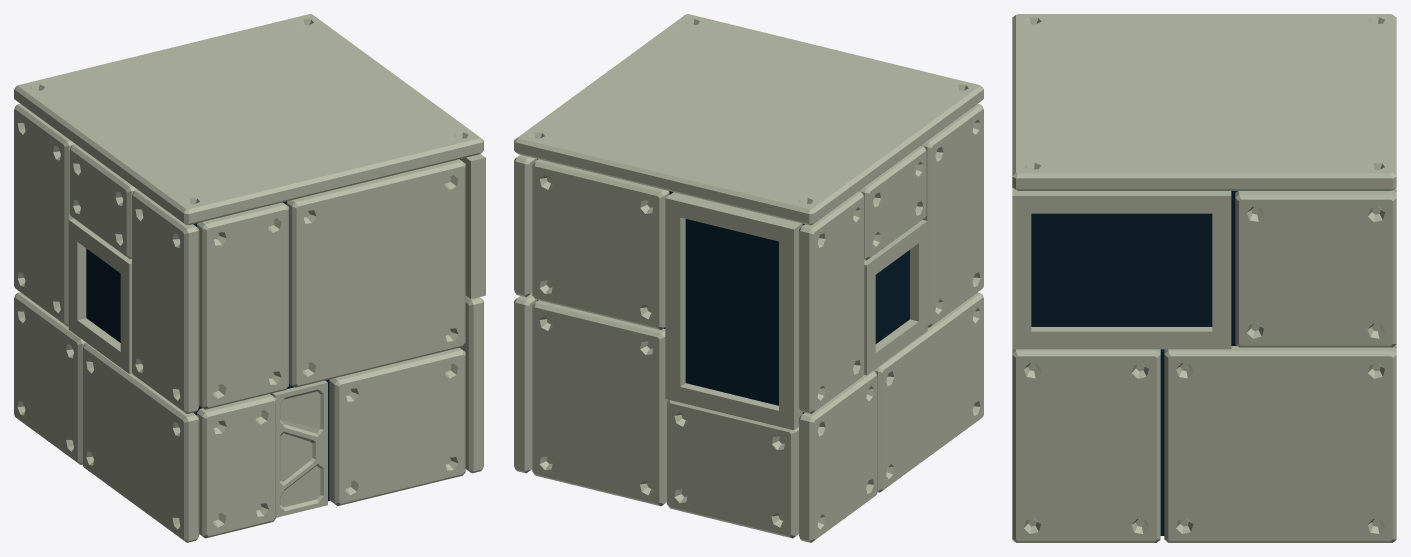
File: House 5 (no grass).fbx
3 views of the same model, side by side, from view 1: azimuth 30°, elevation 25°; view 2: azimuth 150°, elevation 25°; view 3: azimuth 270°, elevation 25° (orthographic). The views are drawn at different scales.
Visible parts, largest first — view 1: H5.High; view 2: H5.High; view 3: H5.High.
Boxes of the visible parts, x1,y1,x2,y2 form: H5.High: (14, 14, 485, 542); H5.High: (514, 14, 983, 542); H5.High: (1012, 14, 1396, 542).
Size of the model in its own units: 500 by 531 by 500.
